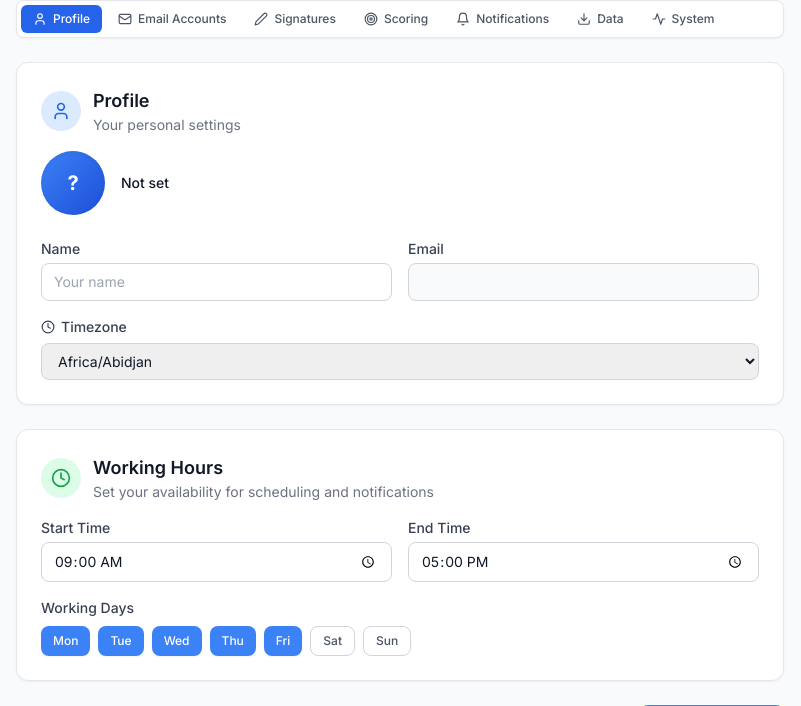
Test: Settings → Automation › renders an unknown flag key without crashing
Click the button "Data". click: (600, 19)
box: 565,5 -> 636,33
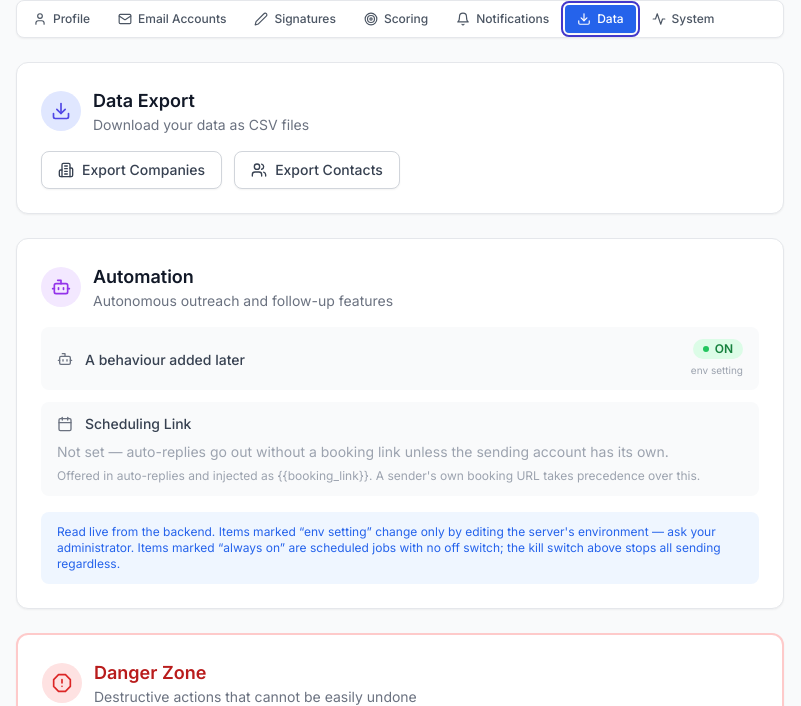
Expected: the text "A behaviour added later" is shown, 85,350 -> 245,368
